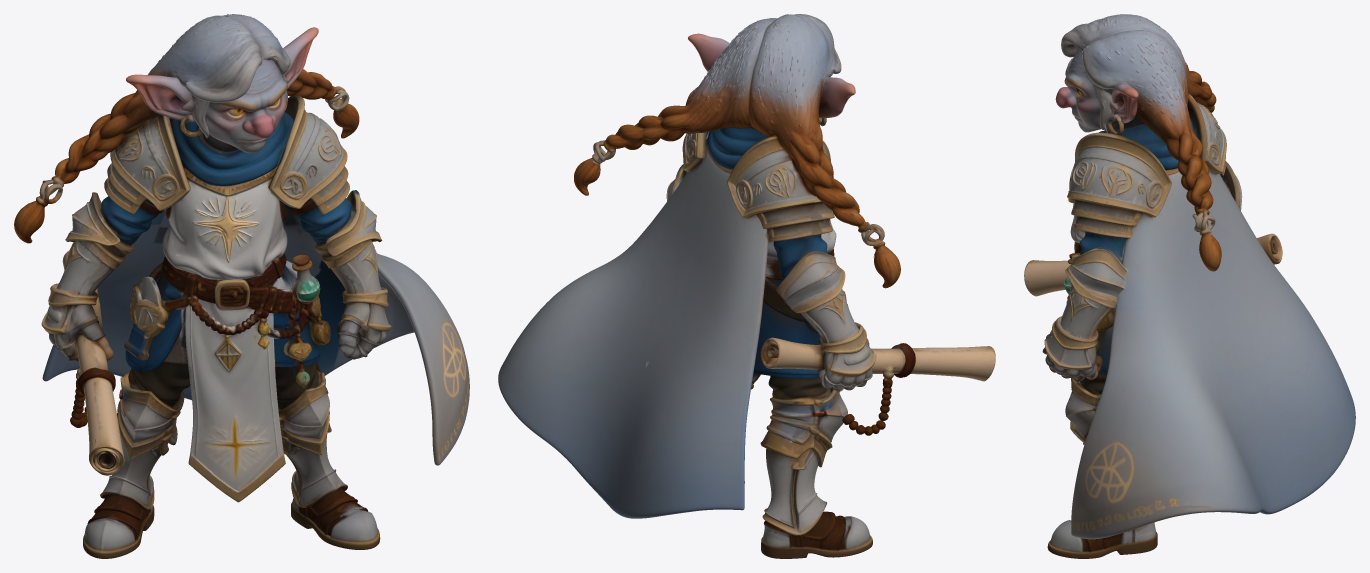
File: gnome_paladin_full_female_01.glb
The picture shows the model from 3 angles, left to right: view 1: azimuth 30°, elevation 25°; view 2: azimuth 150°, elevation 25°; view 3: azimuth 270°, elevation 25°; orthographic projection. The views are drawn at different scales.
Visible parts, largest first — view 1: material; view 2: material; view 3: material.
Boxes of the visible parts, x1=… form: material: x1=14, y1=14, x2=469, y2=558; material: x1=498, y1=14, x2=995, y2=558; material: x1=1024, y1=14, x2=1355, y2=558.
Size of the model in its own units: 0.9052 by 1.02 by 0.6326.
Materials: 1 (1 with a texture image).
